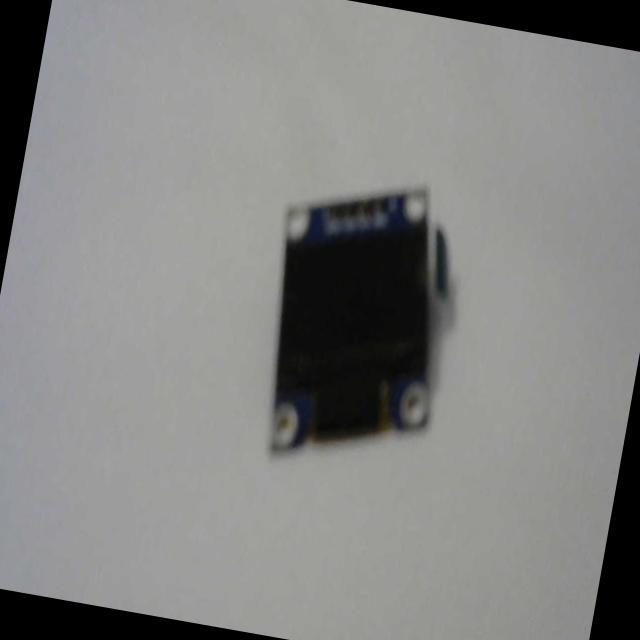oled: (234, 150, 491, 487)
